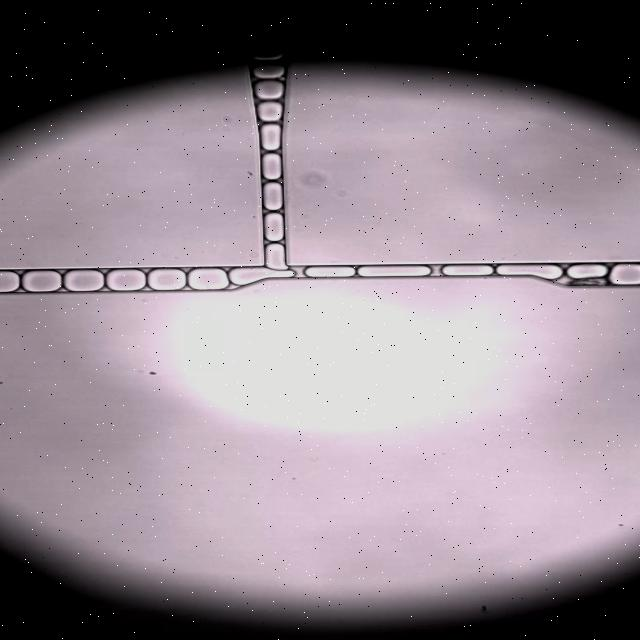L: (567, 264, 606, 279), (264, 213, 284, 241), (263, 182, 282, 211), (254, 81, 283, 100), (443, 265, 493, 276), (261, 124, 281, 151), (252, 63, 285, 79), (305, 267, 355, 277), (265, 244, 284, 269), (257, 102, 282, 121), (263, 153, 281, 179), (252, 52, 284, 61)
S: (229, 268, 293, 285), (497, 265, 562, 280), (358, 265, 430, 277), (22, 270, 62, 291), (188, 269, 229, 289), (64, 271, 104, 291), (148, 269, 186, 290), (108, 270, 145, 290), (609, 264, 640, 285), (0, 271, 19, 292)
